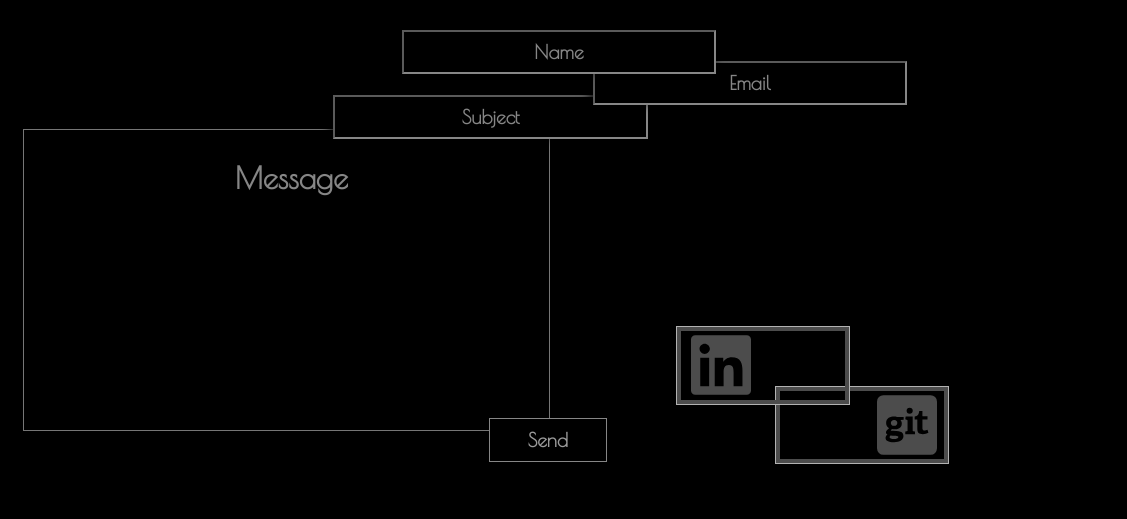
Test: Contact › shows a recoverable error instead of a false success message
Step 1. Type "Ada Lovelace" into the field labelled "Name" → (559, 52), box [402,30,716,74]
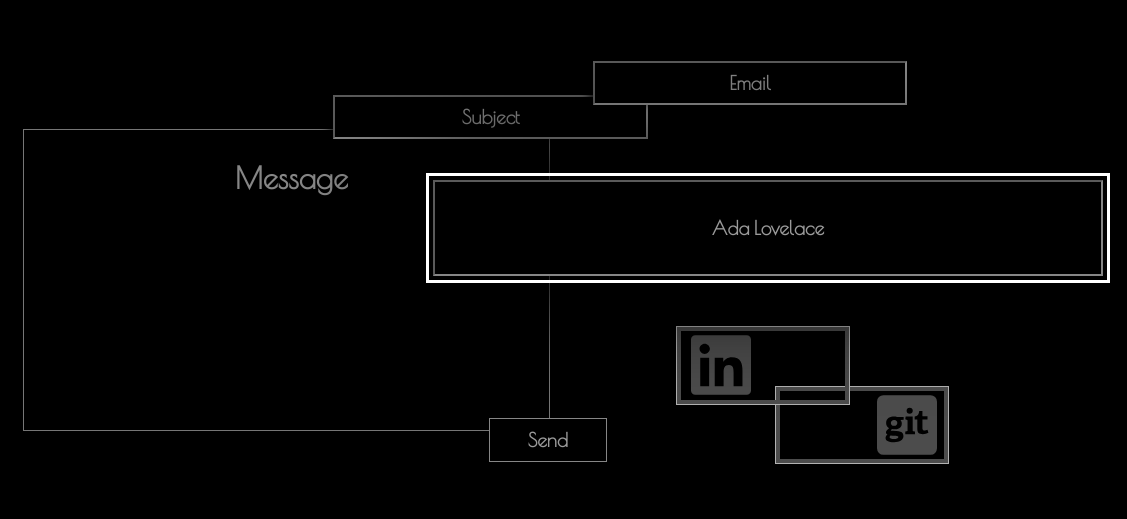
Step 2. Type "ada@example.com" into the field labelled "Email" → (750, 83), box [593,61,907,105]
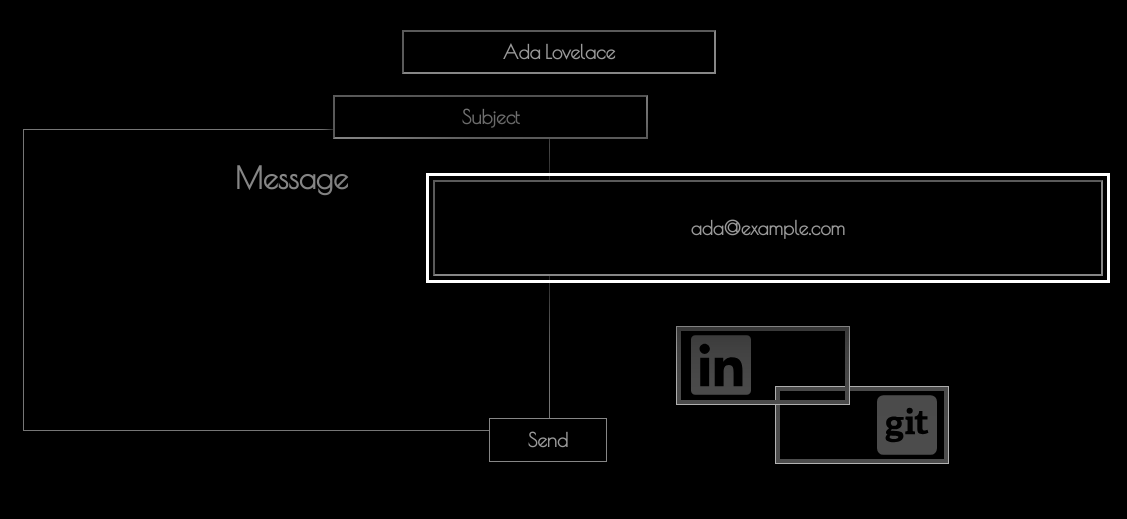
Step 3. Type "Portfolio enquiry" into the field labelled "Subject" → (491, 117), box [333,95,648,139]
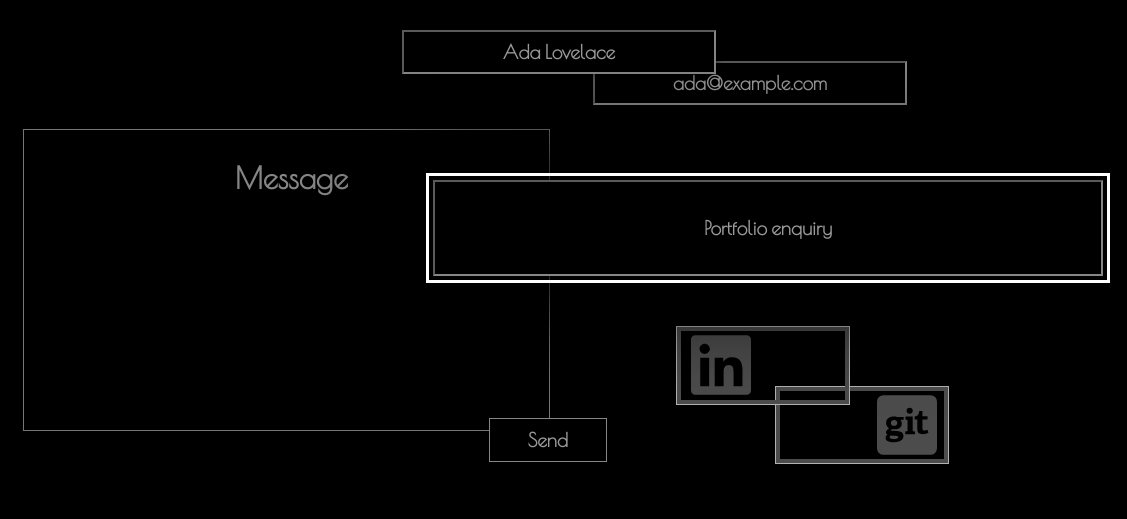
Step 4. Type "Hello from the test suite." into the text box labelled "Message" → (286, 280), box [23,129,550,431]
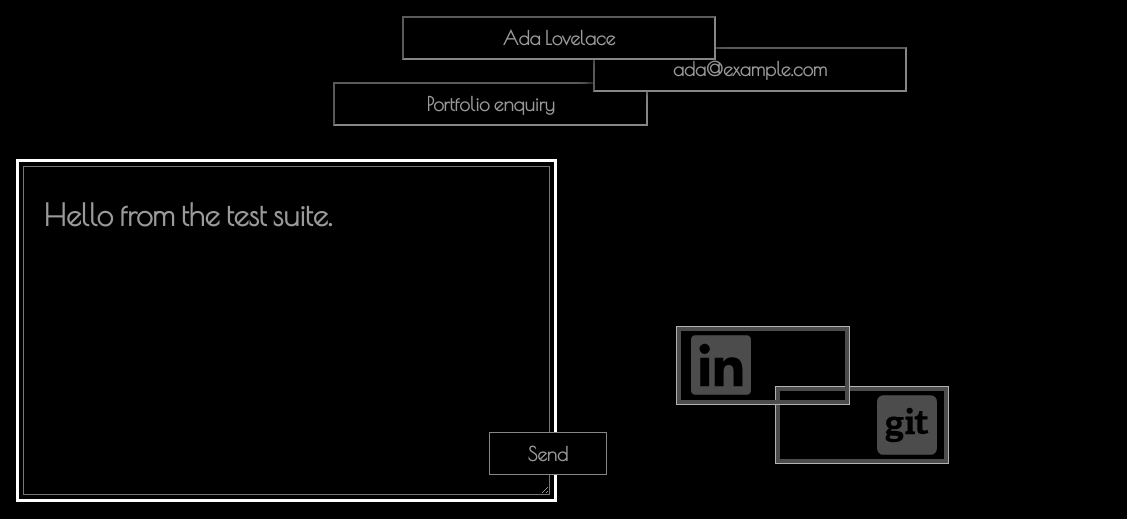
Step 5. Click the button "Send" → (548, 454), box [489,432,607,476]
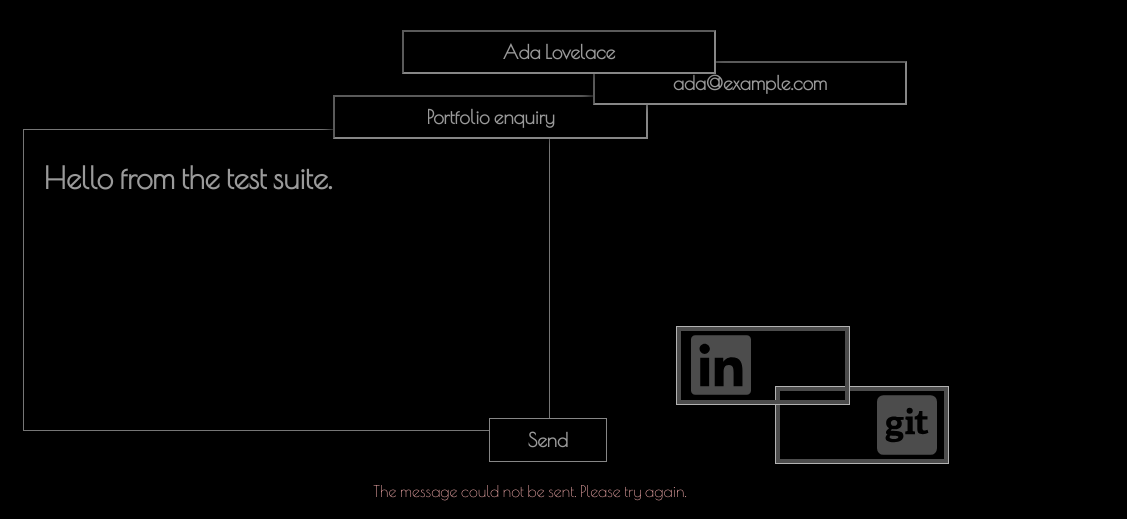
Expected: the button "Send" is enabled, [489,418,607,462]
Expected: the message shows "The message could not be sent", [373,482,687,500]
